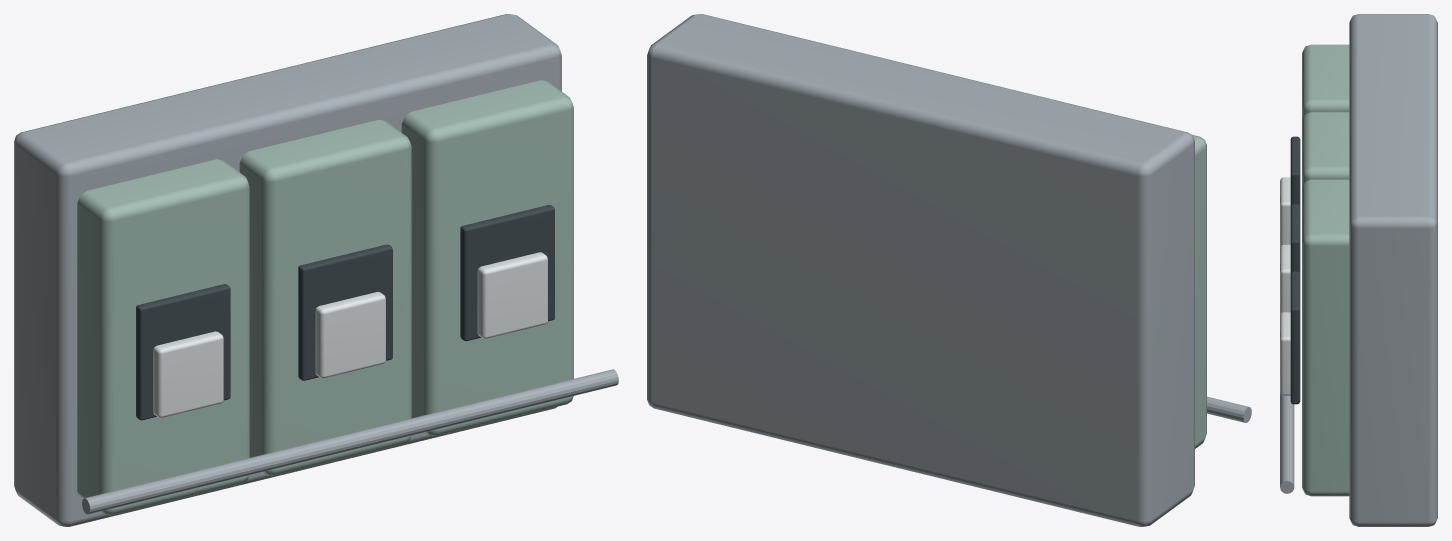
Rendered from glove_dispenser.fbx.
3 renders of one model, left to right at view 1: azimuth 30°, elevation 25°; view 2: azimuth 150°, elevation 25°; view 3: azimuth 270°, elevation 25°, orthographic. The views are drawn at different scales.
Parts seen in each view (by area): view 1: EQ_glove_dispenser_M_Sage, EQ_glove_dispenser_M_SteelBrushed, EQ_glove_dispenser_M_PlasticGrey, EQ_glove_dispenser_M_PlasticWhite; view 2: EQ_glove_dispenser_M_SteelBrushed, EQ_glove_dispenser_M_Sage; view 3: EQ_glove_dispenser_M_SteelBrushed, EQ_glove_dispenser_M_Sage, EQ_glove_dispenser_M_PlasticGrey, EQ_glove_dispenser_M_PlasticWhite.
Part boxes in pixels (bbox=[...]): EQ_glove_dispenser_M_Sage: bbox=[77, 80, 573, 515]; EQ_glove_dispenser_M_SteelBrushed: bbox=[14, 14, 618, 526]; EQ_glove_dispenser_M_PlasticGrey: bbox=[136, 205, 554, 420]; EQ_glove_dispenser_M_PlasticWhite: bbox=[153, 252, 547, 417]; EQ_glove_dispenser_M_SteelBrushed: bbox=[647, 14, 1251, 526]; EQ_glove_dispenser_M_Sage: bbox=[1191, 134, 1206, 448]; EQ_glove_dispenser_M_SteelBrushed: bbox=[1280, 14, 1437, 526]; EQ_glove_dispenser_M_Sage: bbox=[1302, 44, 1349, 496]; EQ_glove_dispenser_M_PlasticGrey: bbox=[1290, 136, 1300, 404]; EQ_glove_dispenser_M_PlasticWhite: bbox=[1280, 177, 1290, 395].
Size of the model in its own units: 0.44 by 0.29 by 0.1335.
